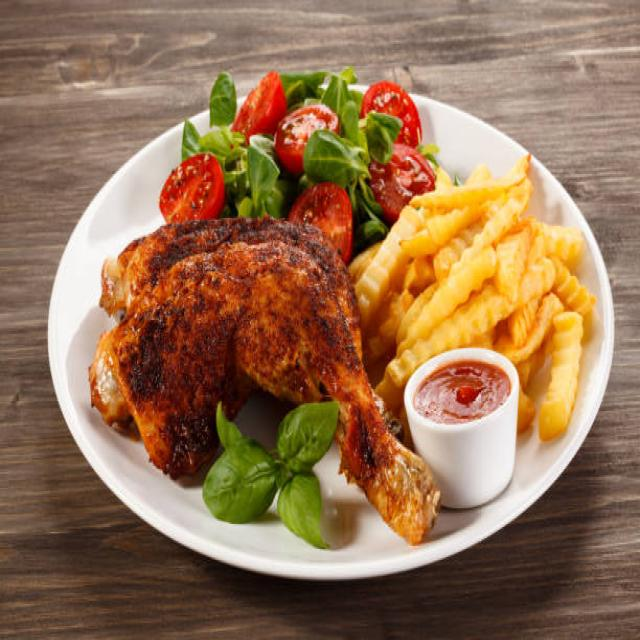Frango: (91, 206, 441, 549)
